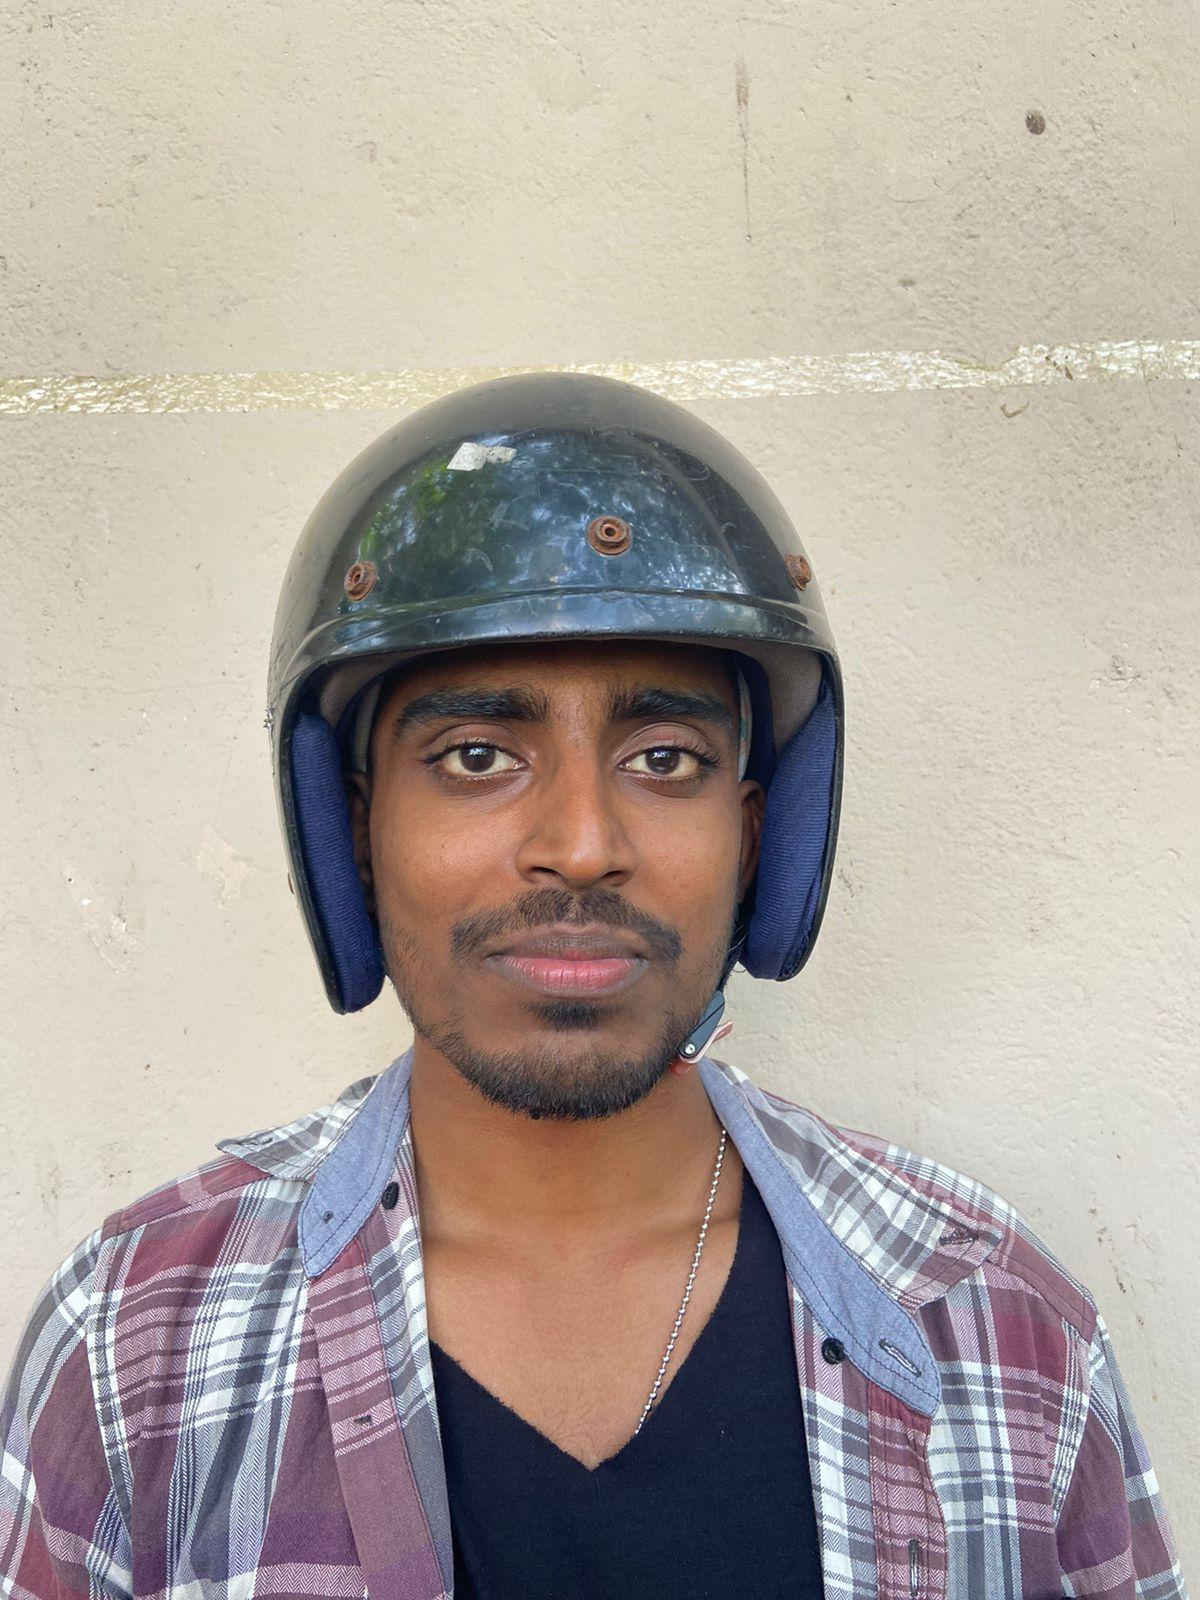helmet: (263, 370, 846, 1017)
